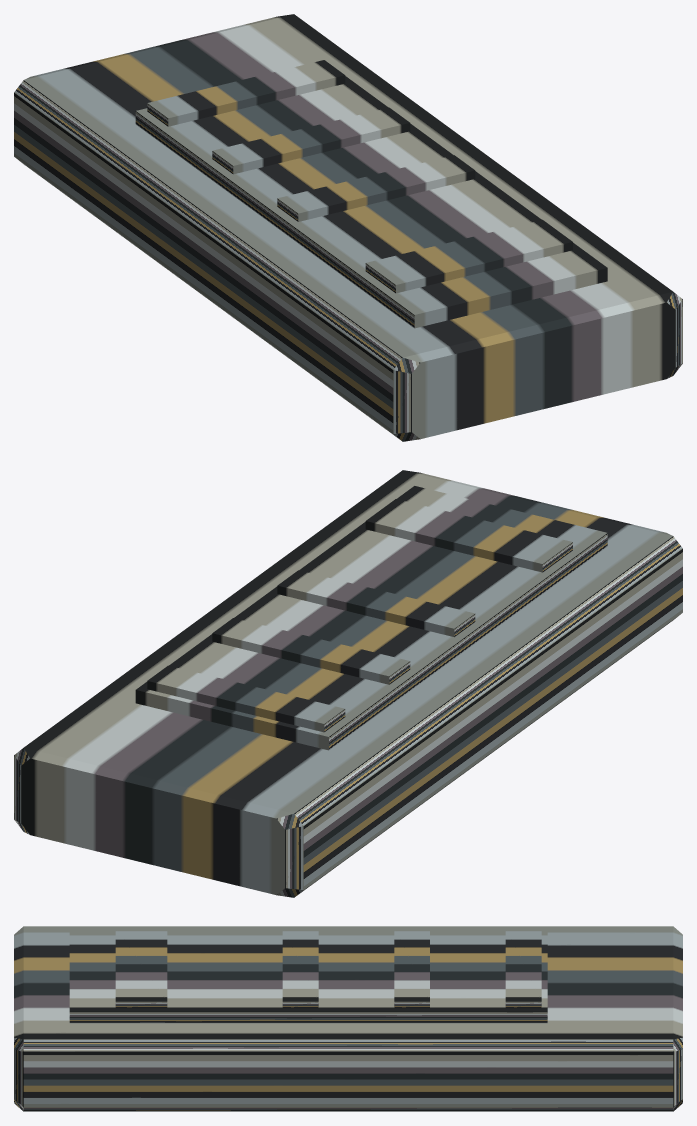
File: CarrierHeavyTurretVent.obj
3 renders of one model, top to bottom at view 1: azimuth 30°, elevation 25°; view 2: azimuth 150°, elevation 25°; view 3: azimuth 270°, elevation 25°, orthographic. The views are drawn at different scales.
Visible parts, largest first — view 1: CarrierHeavyTurretVent; view 2: CarrierHeavyTurretVent; view 3: CarrierHeavyTurretVent.
Part boxes in pixels (x1,y1,x2,y2): CarrierHeavyTurretVent: [14, 14, 682, 441]; CarrierHeavyTurretVent: [14, 470, 682, 897]; CarrierHeavyTurretVent: [14, 926, 682, 1111].
Size of the model in its own units: 0.36 by 0.126 by 0.84.
1 material, 1 textured.
